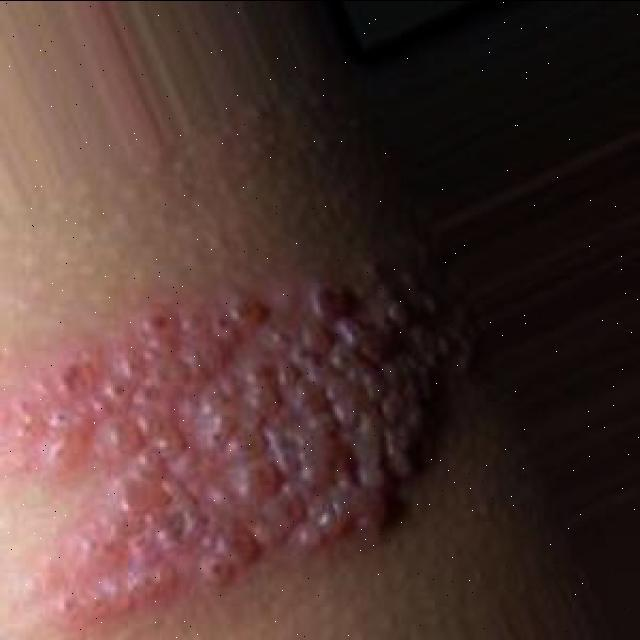Shingles: (0, 269, 454, 622)
